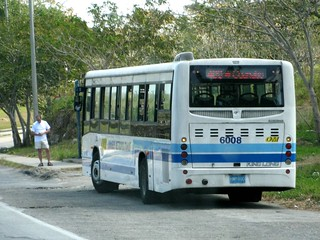bus: (77, 58, 295, 204)
